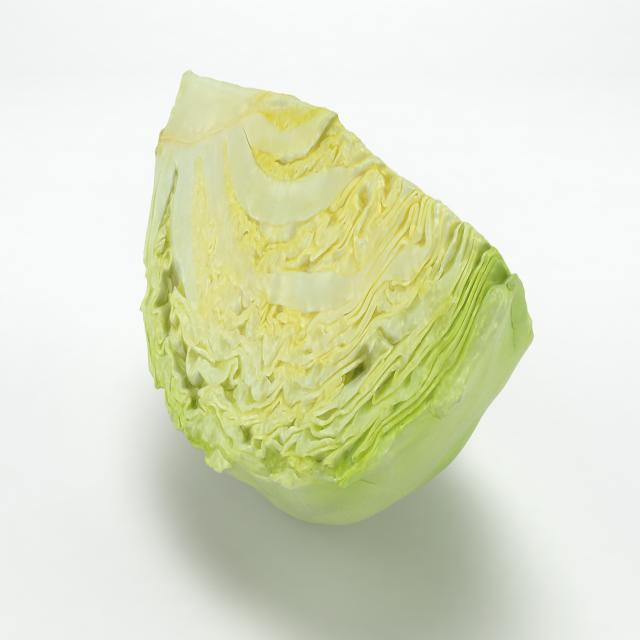cabbage: (134, 67, 530, 540)
